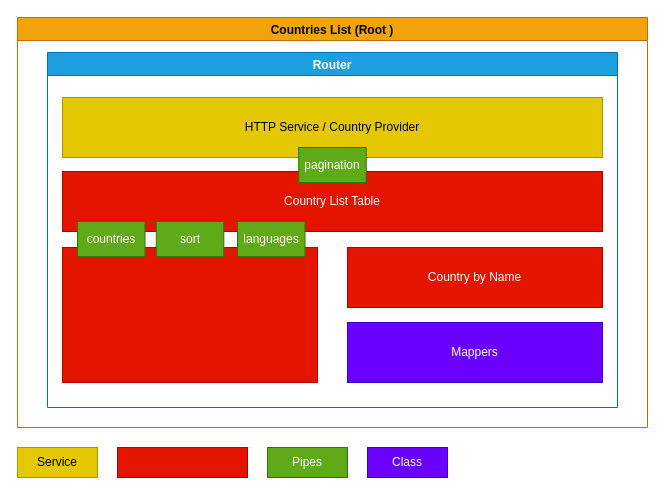
The diagram is 665 pixels wide and 495 high, and some of its shapes have lost their labels. Each missing label, with the centre of its shape:
"Component" belongs at (182,462).
"Country List" belongs at (190,314).
